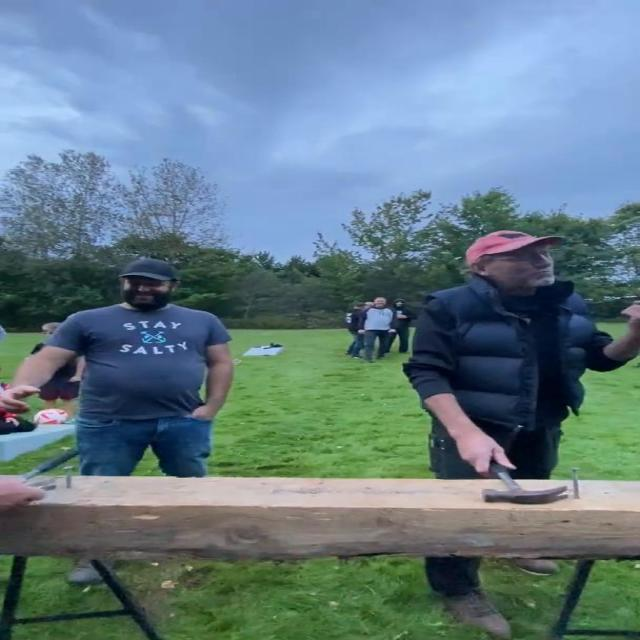hammer: (487, 463, 567, 504), (20, 448, 84, 490)
